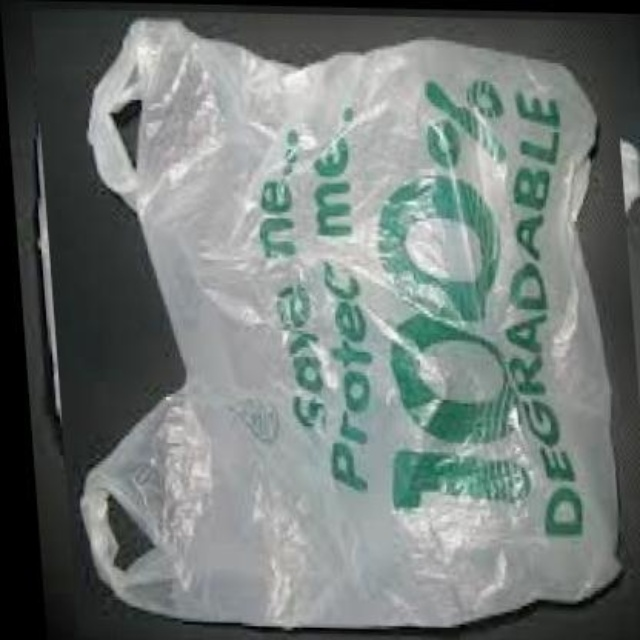trash: (82, 18, 618, 626)
